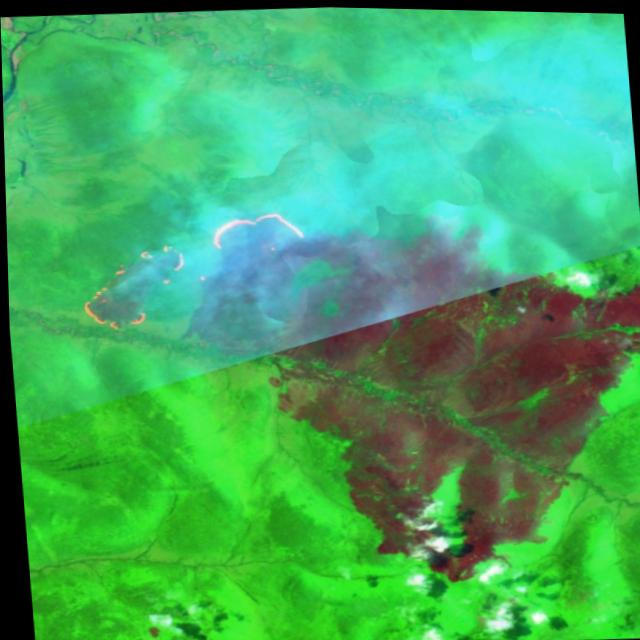fire: (68, 200, 316, 338)
